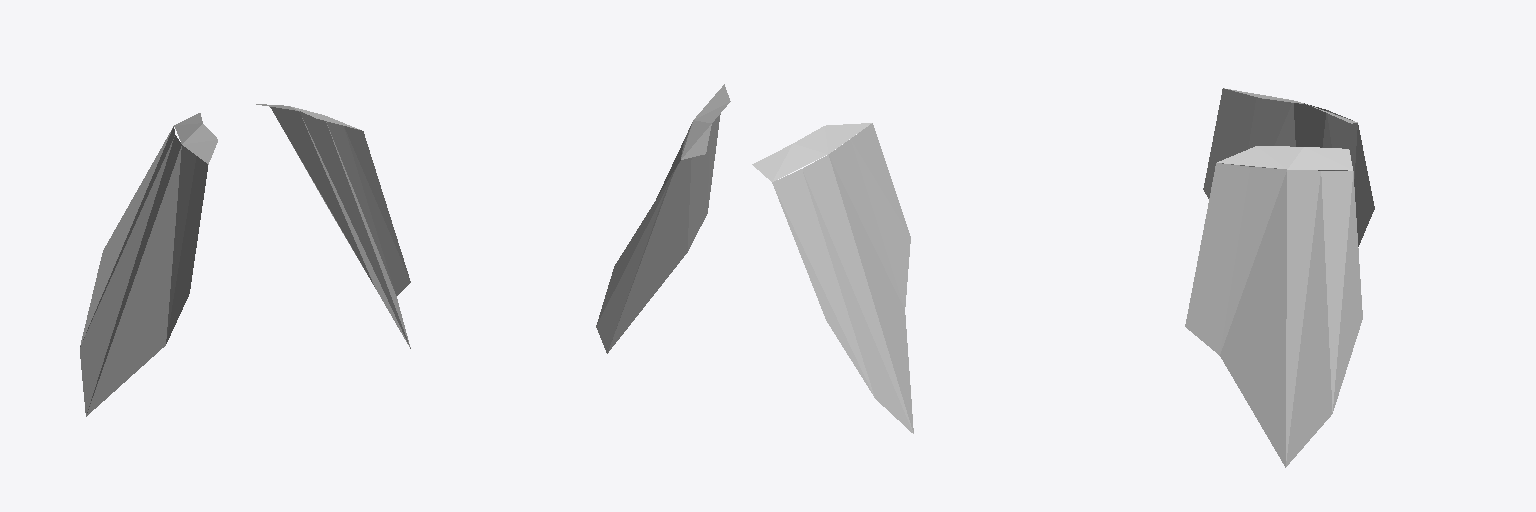
The model's file is wings_000004.obj.
3 views of the same model, side by side, from view 1: azimuth 30°, elevation 25°; view 2: azimuth 150°, elevation 25°; view 3: azimuth 270°, elevation 25° (orthographic).
Parts seen in each view (by area): view 1: Plane; view 2: Plane; view 3: Plane.
Part boxes in pixels (bbox=[...]): Plane: bbox=[80, 104, 410, 416]; Plane: bbox=[596, 84, 913, 433]; Plane: bbox=[1185, 88, 1374, 467].
Size of the model in its own units: 9.54 by 7.77 by 4.96.